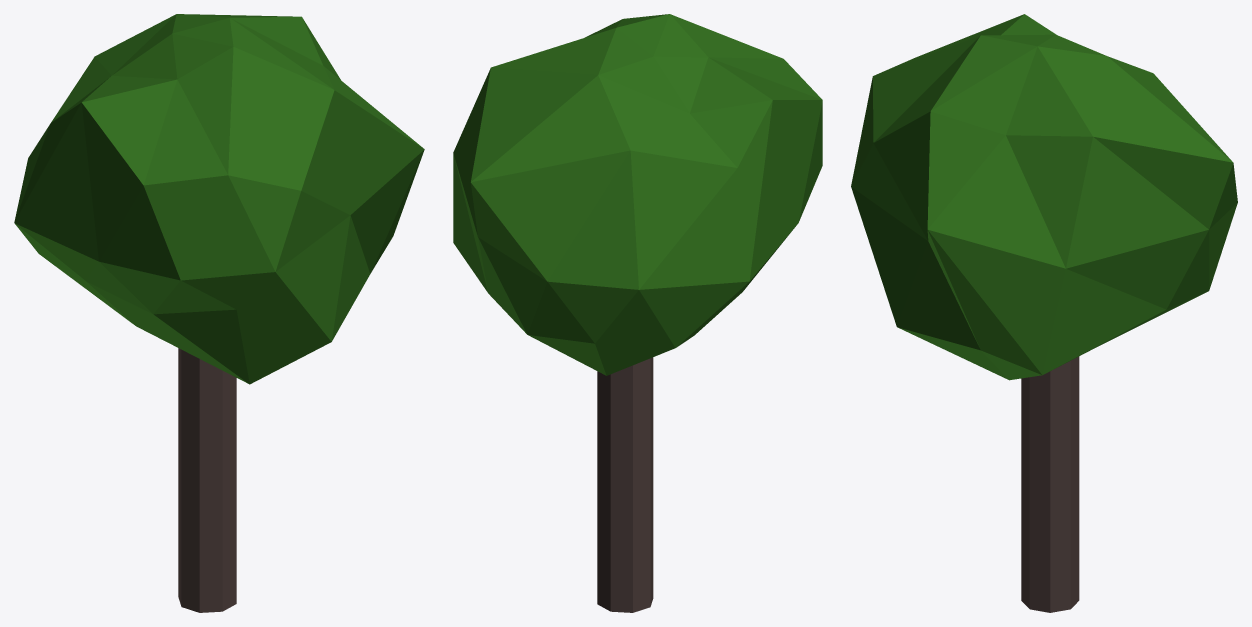
The model's file is Tree1.fbx.
The picture shows the model from 3 angles, left to right: view 1: azimuth 30°, elevation 25°; view 2: azimuth 150°, elevation 25°; view 3: azimuth 270°, elevation 25°; orthographic projection. The views are drawn at different scales.
Visible parts, largest first — view 1: Icosphere; view 2: Icosphere; view 3: Icosphere.
Boxes of the visible parts, <box> form: Icosphere: <box>14,14,424,612</box>; Icosphere: <box>453,14,822,612</box>; Icosphere: <box>851,14,1237,612</box>.
Size of the model in its own units: 766 by 1247 by 779.
